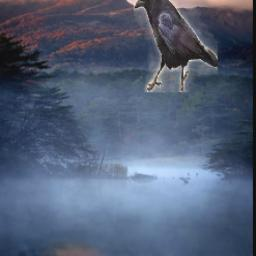Crow: (135, 0, 219, 92)
